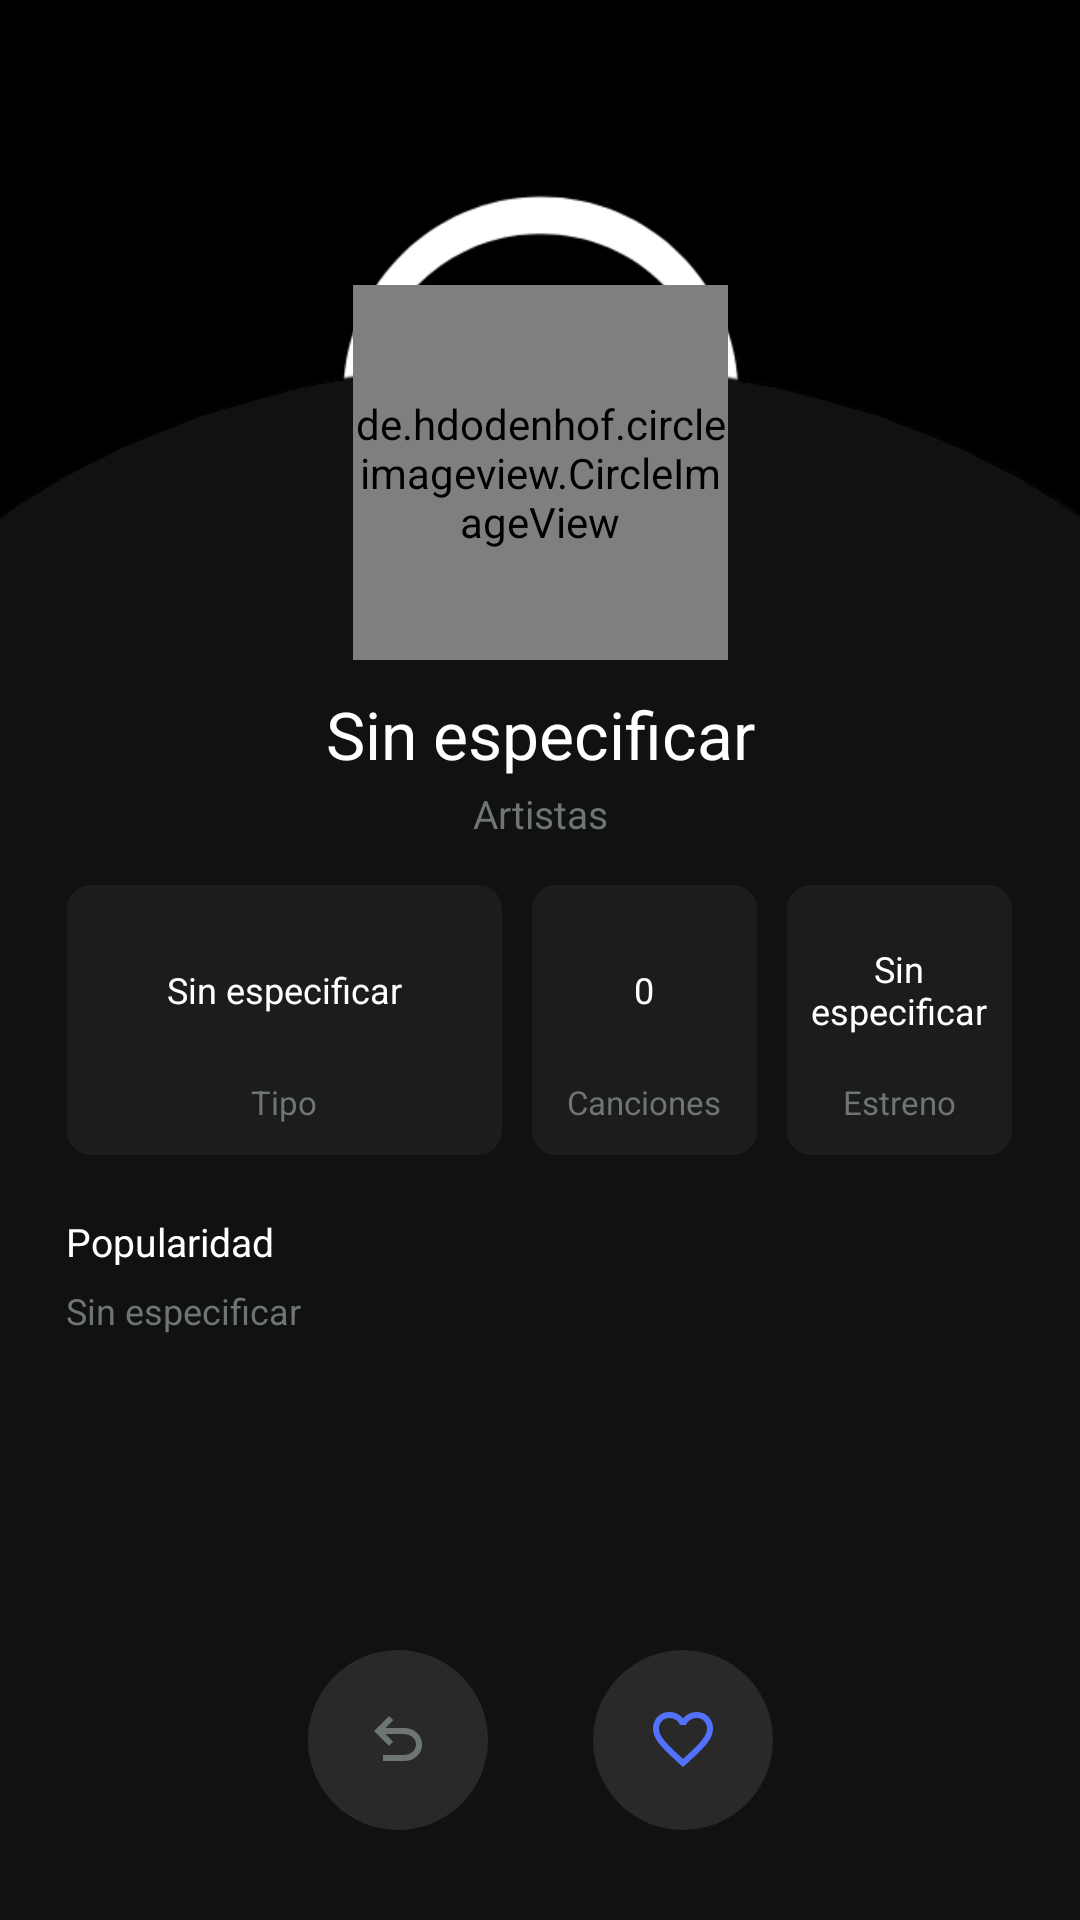

Named icons in this screenshot (1080px×1920px) and their centers, [x,y]:
back: [398,1740]
favorite: [683,1740]
